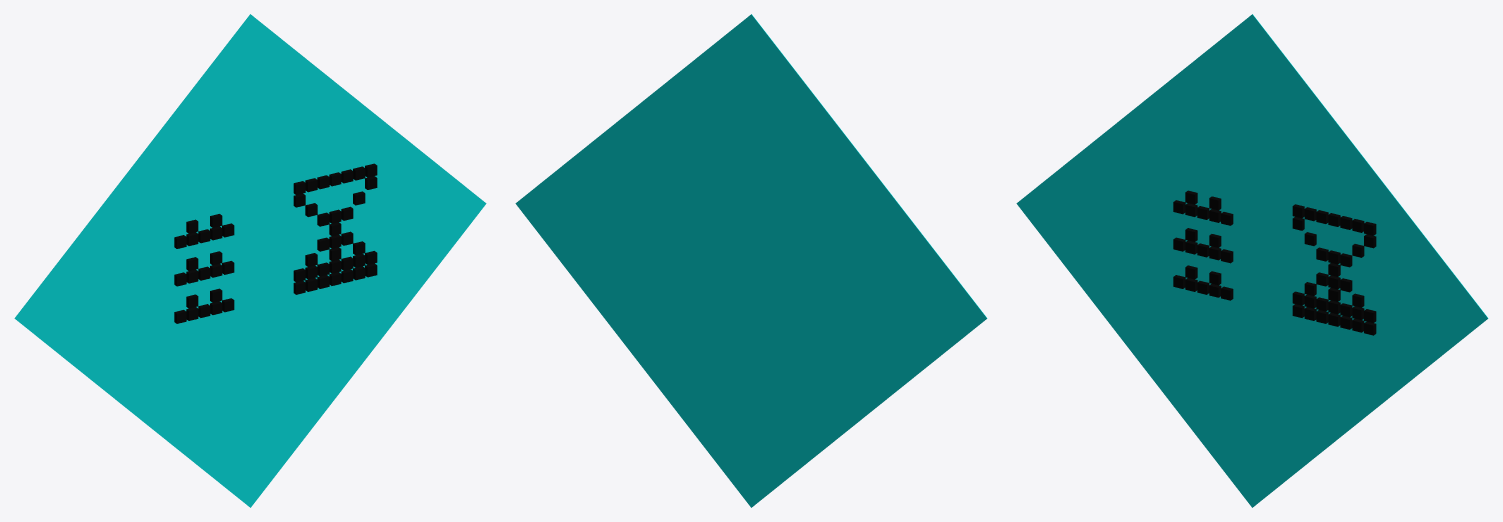
File: ProgressTurnSetCoin.fbx
3 views of the same model, side by side, from view 1: azimuth 30°, elevation 25°; view 2: azimuth 150°, elevation 25°; view 3: azimuth 330°, elevation 25° (orthographic).
Parts seen in each view (by area): view 1: Cube.001; view 2: Cube.001; view 3: Cube.001.
Part boxes in pixels (<box>): Cube.001: <box>14,14,486,507</box>; Cube.001: <box>515,14,987,507</box>; Cube.001: <box>1016,14,1488,507</box>.
Size of the model in its own units: 198 by 198 by 2.1.
